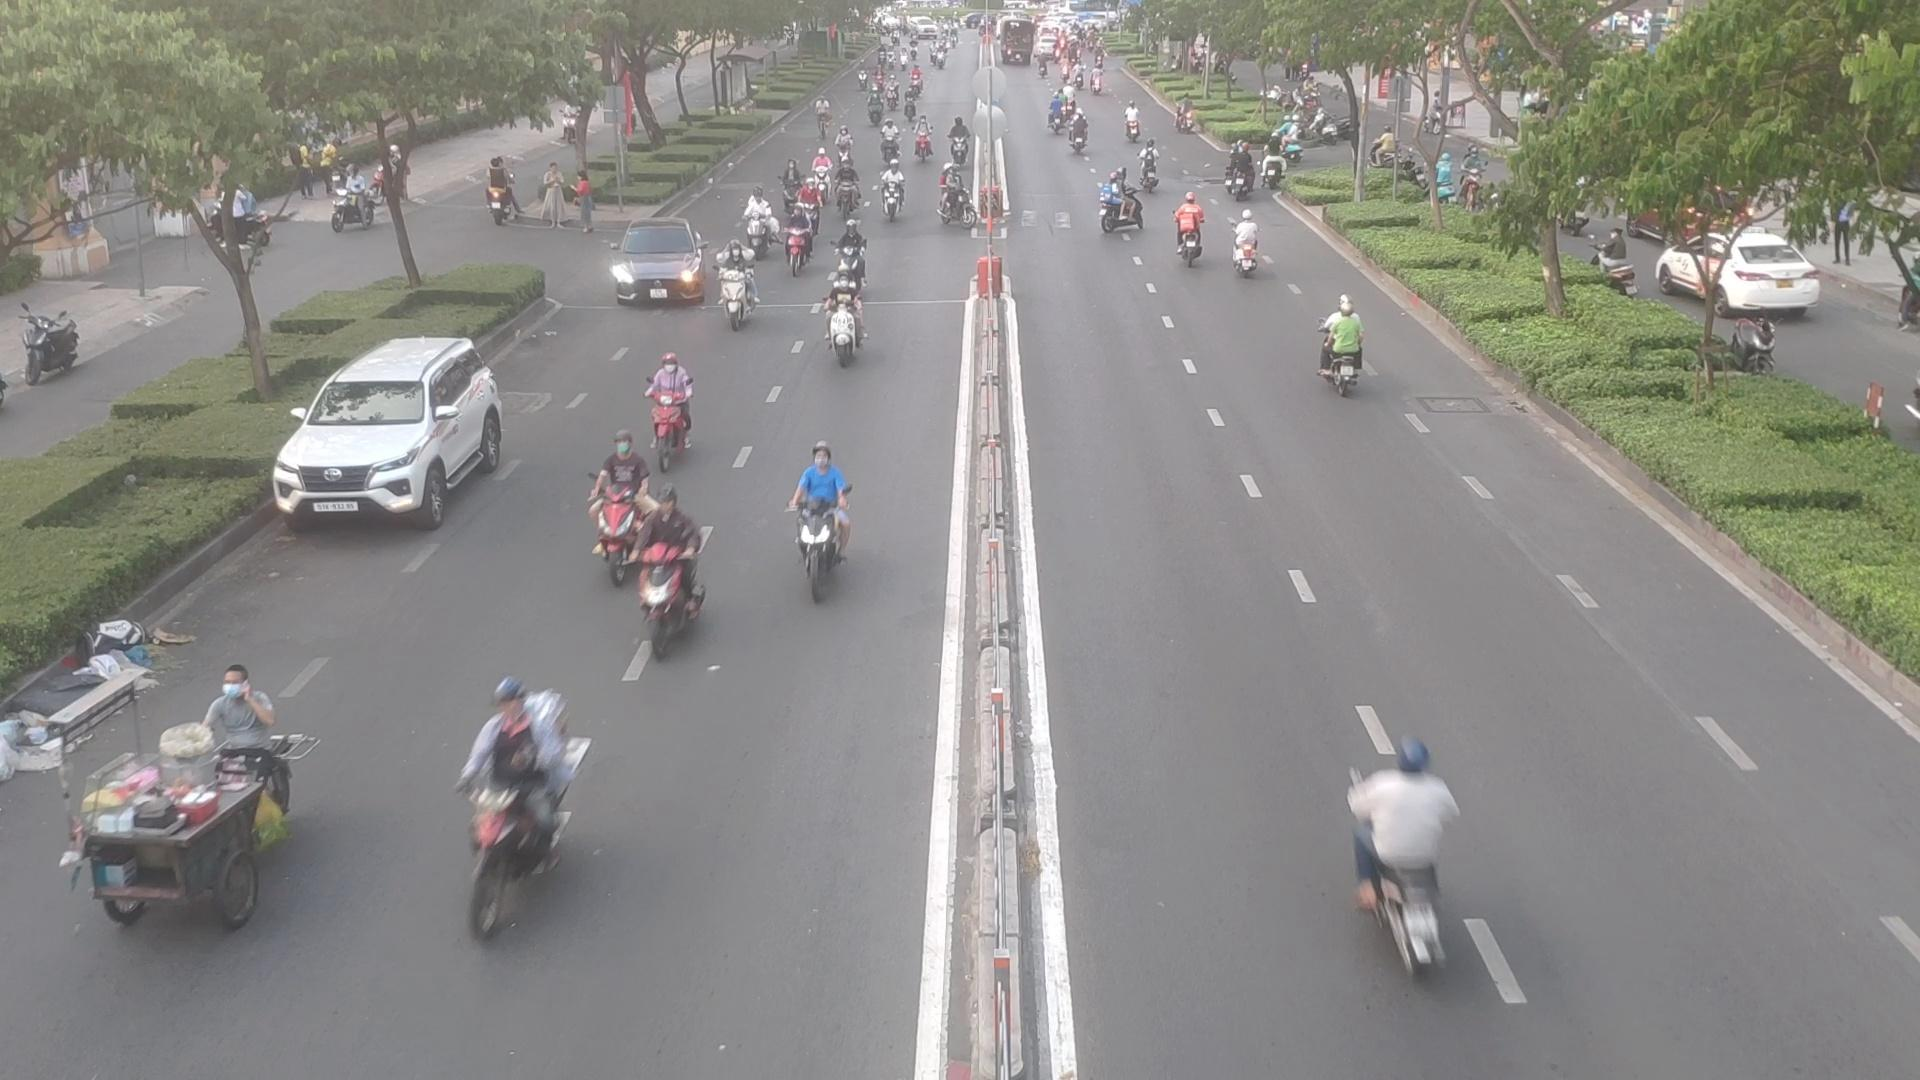car: (269, 340, 520, 527), (607, 233, 707, 309)
motorbike: (444, 678, 592, 902), (1353, 742, 1462, 1004), (591, 463, 695, 585), (644, 487, 707, 661), (789, 463, 856, 599), (634, 363, 703, 465), (1317, 307, 1381, 398), (820, 290, 869, 367), (717, 268, 760, 331), (733, 195, 778, 251), (1096, 182, 1138, 239), (1233, 222, 1271, 280), (732, 214, 773, 262), (1174, 208, 1207, 266), (872, 174, 906, 223), (785, 225, 816, 277), (786, 181, 822, 222), (1124, 107, 1149, 141)
